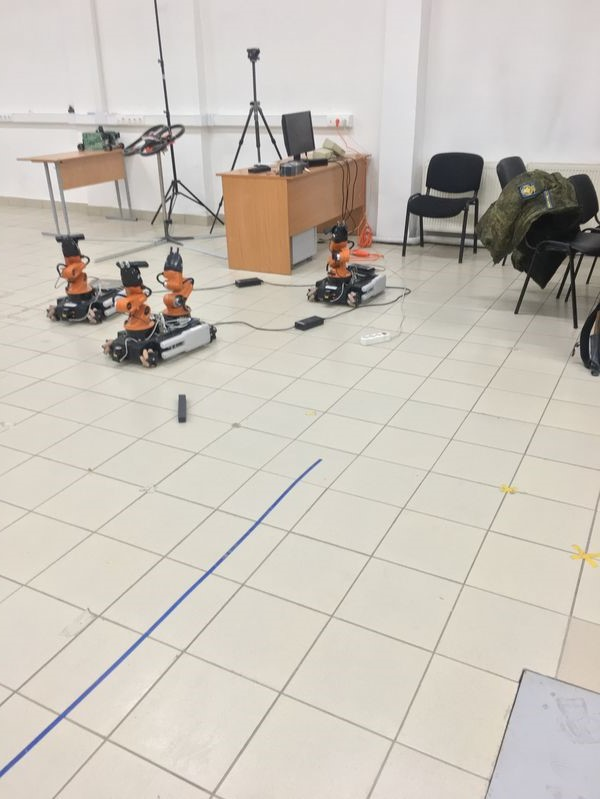socket: (356, 325, 396, 348)
